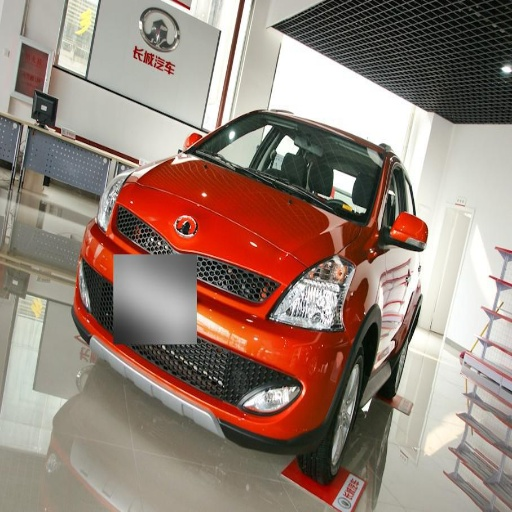front_bumper: (195, 305, 353, 445)
front_glass: (253, 128, 373, 217)
front_left_door: (378, 171, 413, 338)
front_left_light: (273, 255, 351, 330)
trunk: (110, 183, 216, 339)
